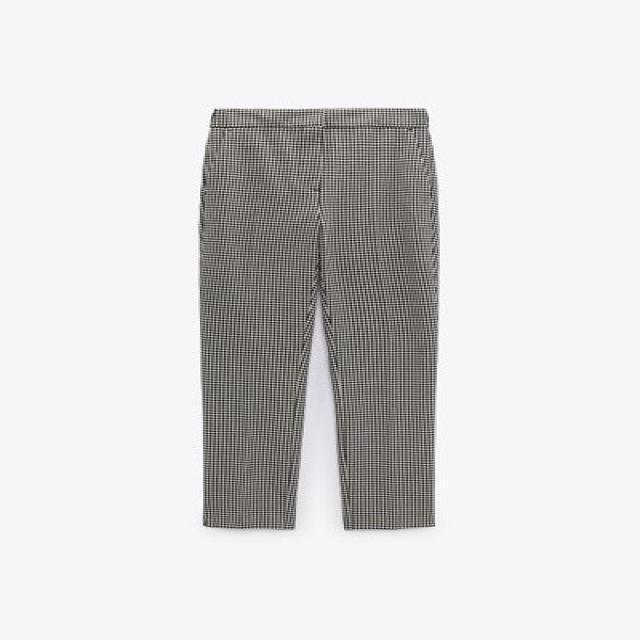pants: (184, 105, 448, 535)
